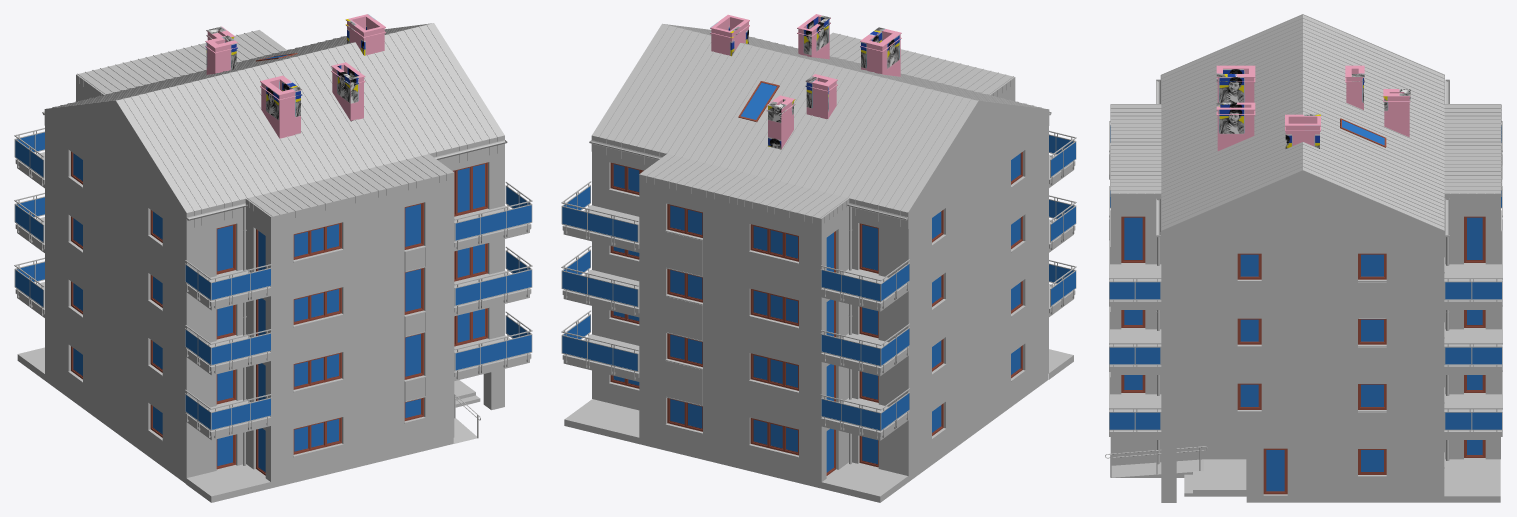
File: building_04a.71b1527a.obj
The picture shows the model from 3 angles, left to right: view 1: azimuth 30°, elevation 25°; view 2: azimuth 150°, elevation 25°; view 3: azimuth 270°, elevation 25°; orthographic projection.
Parts seen in each view (by area): view 1: building_walls, roof, foundation_wall, window.005, barrels, chimney, balcony, metal_cover, terrace, boards, eneter_floor, gutters.003; view 2: building_walls, roof, foundation_wall, window.005, barrels, chimney, balcony, terrace, boards.001, metal_cover, window_roof, gutters.003; view 3: building_walls, roof, foundation_wall, window.005, barrels, balcony, chimney, boards.001, eneter_floor, terrace, metal_cover, roof_plate (+3 smaller).
Boxes of the visible parts, bbox=[...] form: building_walls: bbox=[45, 81, 504, 417]; roof: bbox=[44, 23, 504, 229]; foundation_wall: bbox=[45, 310, 454, 488]; window.005: bbox=[68, 151, 487, 475]; barrels: bbox=[14, 128, 532, 438]; chimney: bbox=[205, 14, 385, 138]; balcony: bbox=[17, 152, 529, 440]; metal_cover: bbox=[15, 152, 531, 436]; terrace: bbox=[17, 347, 270, 502]; boards: bbox=[404, 246, 426, 402]; eneter_floor: bbox=[453, 380, 480, 443]; gutters.003: bbox=[42, 111, 507, 220]; building_walls: bbox=[592, 84, 1048, 417]; roof: bbox=[591, 23, 1049, 228]; foundation_wall: bbox=[592, 309, 1048, 488]; window.005: bbox=[609, 152, 1025, 475]; barrels: bbox=[561, 130, 1076, 438]; chimney: bbox=[710, 14, 901, 149]; balcony: bbox=[563, 155, 1073, 440]; terrace: bbox=[564, 349, 1073, 502]; boards.001: bbox=[665, 232, 702, 406]; metal_cover: bbox=[562, 155, 1075, 436]; window_roof: bbox=[738, 81, 779, 121]; gutters.003: bbox=[589, 111, 1051, 220]; building_walls: bbox=[1110, 179, 1500, 502]; roof: bbox=[1110, 14, 1501, 246]; foundation_wall: bbox=[1110, 431, 1500, 502]; window.005: bbox=[1110, 165, 1502, 496]; barrels: bbox=[1109, 121, 1502, 438]; balcony: bbox=[1110, 263, 1500, 439]; chimney: bbox=[1216, 65, 1410, 151]; boards.001: bbox=[1358, 213, 1501, 448]; eneter_floor: bbox=[1111, 459, 1246, 496]; terrace: bbox=[1444, 458, 1500, 502]; metal_cover: bbox=[1109, 145, 1501, 436]; roof_plate: bbox=[1110, 193, 1500, 200].
Size of what is drawn, in the model's own units: 15.55 by 16.11 by 16.63.
